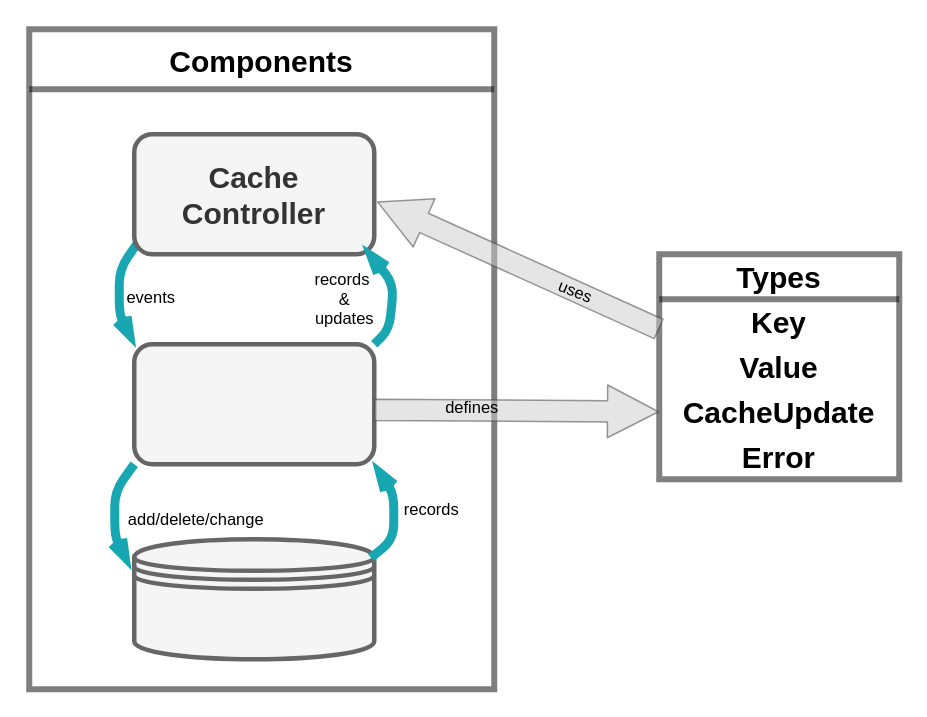
The diagram is 927 pixels wide and 717 high, and some of its shapes have lost their labels. The shapes that lost their labels are listed below. From the top down, each one's centre as x and y in pixels, then its label:
At point 253,403: "Data Controller".
At point 253,598: "Backend".
